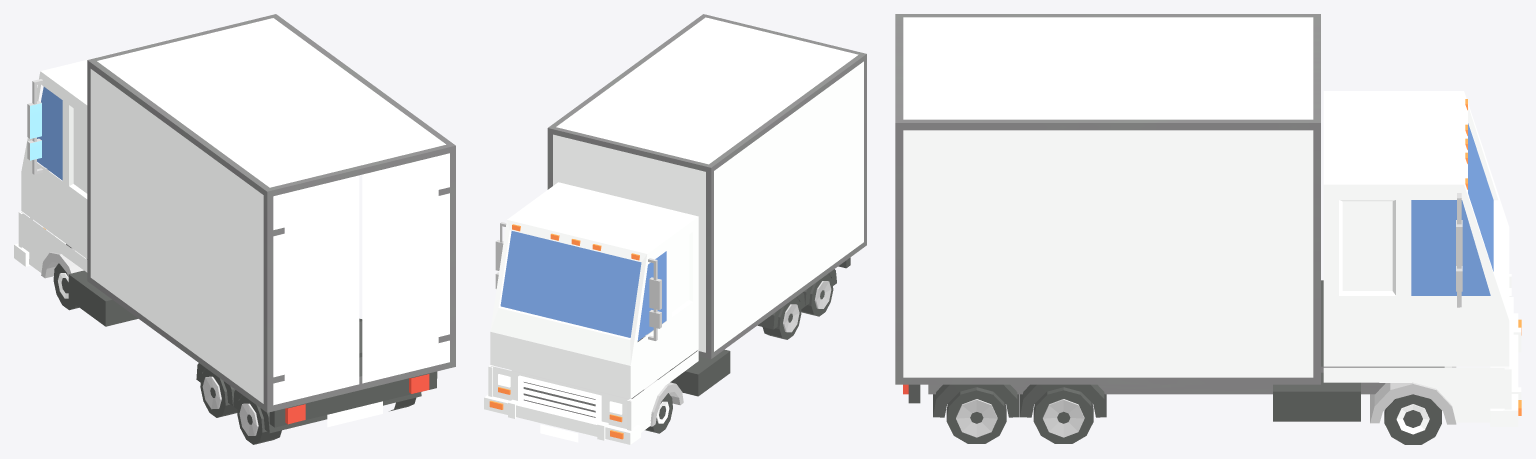
Rendered from transport_truck.004.glb.
3 renders of one model, left to right at view 1: azimuth 30°, elevation 25°; view 2: azimuth 150°, elevation 25°; view 3: azimuth 270°, elevation 25°, orthographic. The views are drawn at different scales.
Parts seen in each view (by area): view 1: transport_truck.004(Clone); view 2: transport_truck.004(Clone); view 3: transport_truck.004(Clone).
Boxes of the visible parts, x1,y1,x2,y2 form: transport_truck.004(Clone): (14, 14, 455, 444); transport_truck.004(Clone): (484, 14, 866, 444); transport_truck.004(Clone): (895, 14, 1521, 444).
Bounding box in the file's own units: 2.25 × 3.13 × 5.36.
1 material, 1 textured.
